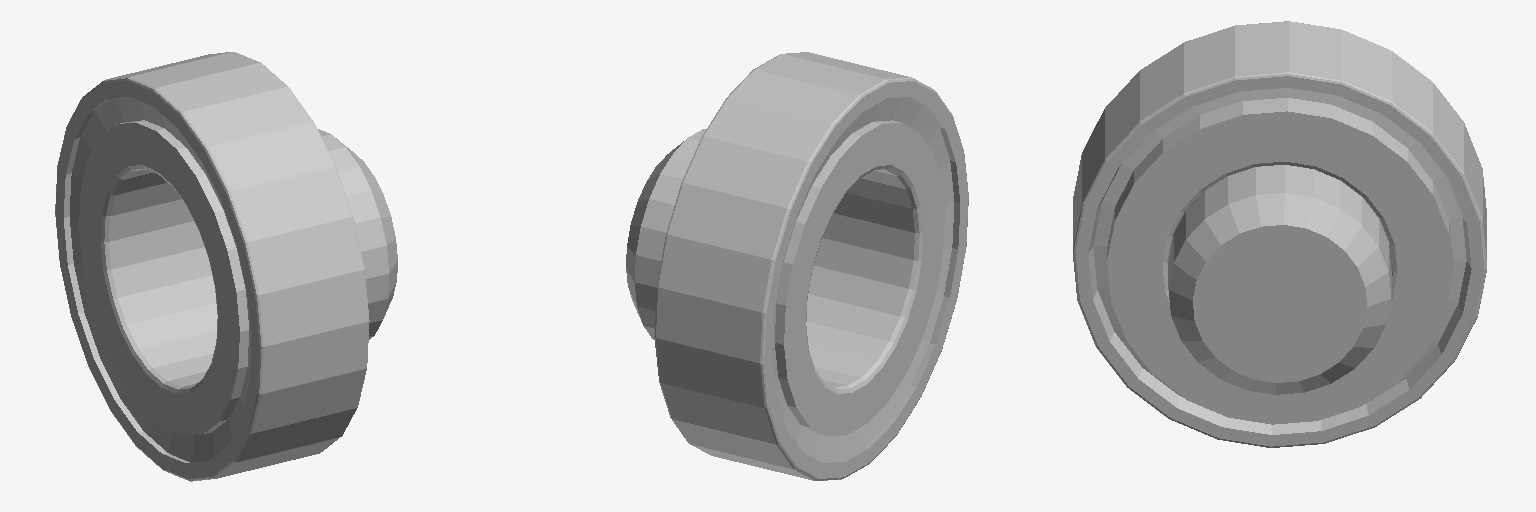
Rendered from original-61.obj.
3 renders of one model, left to right at view 1: azimuth 30°, elevation 25°; view 2: azimuth 150°, elevation 25°; view 3: azimuth 270°, elevation 25°, orthographic.
Visible parts, largest first — view 1: W-POR-1650-1_1_4_4/mesh64/mesh64-geometry#mesh64-geometry; view 2: W-POR-1650-1_1_4_4/mesh64/mesh64-geometry#mesh64-geometry; view 3: W-POR-1650-1_1_4_4/mesh64/mesh64-geometry#mesh64-geometry.
Boxes of the visible parts, x1,y1,x2,y2 form: W-POR-1650-1_1_4_4/mesh64/mesh64-geometry#mesh64-geometry: [55, 52, 397, 481]; W-POR-1650-1_1_4_4/mesh64/mesh64-geometry#mesh64-geometry: [626, 52, 968, 480]; W-POR-1650-1_1_4_4/mesh64/mesh64-geometry#mesh64-geometry: [1073, 21, 1486, 447].
Size of the model in its own units: 0.0119 by 0.0216 by 0.0216.